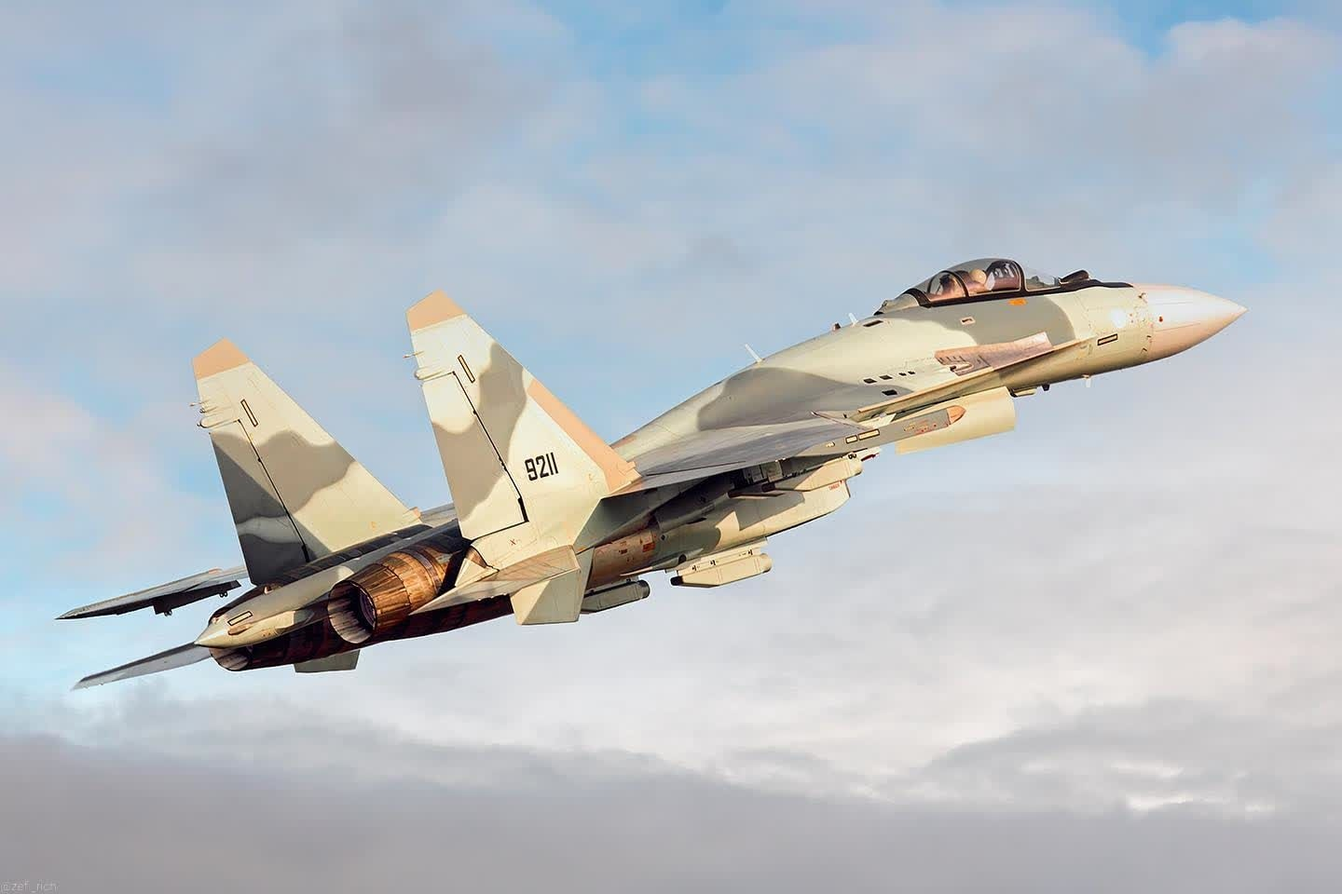Su35: (45, 246, 1259, 700)
